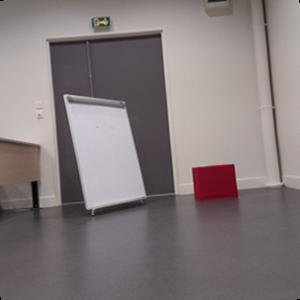big: (63, 93, 149, 211)
medium: (192, 164, 238, 200)
